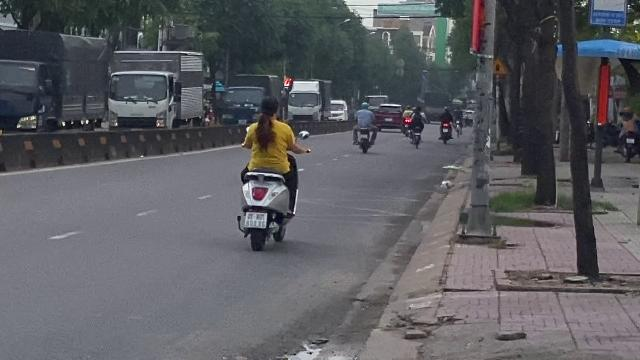licenseplate: (243, 212, 267, 229)
motorcyclist: (234, 95, 302, 251)
nohelmet: (256, 96, 278, 124)
